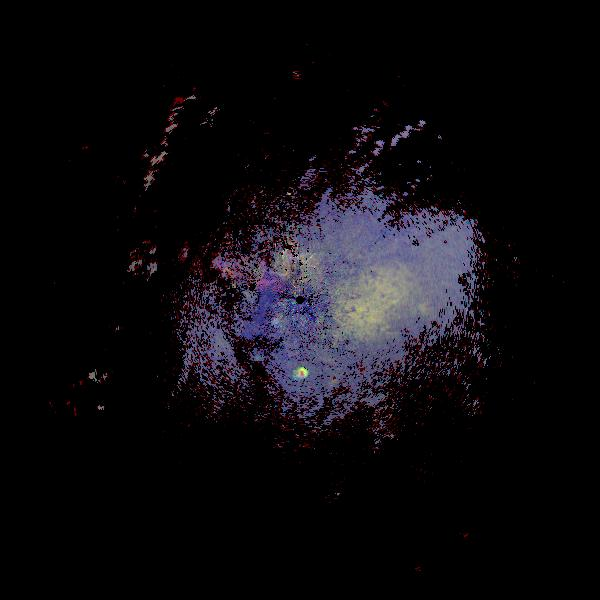roost: (294, 365, 312, 383)
